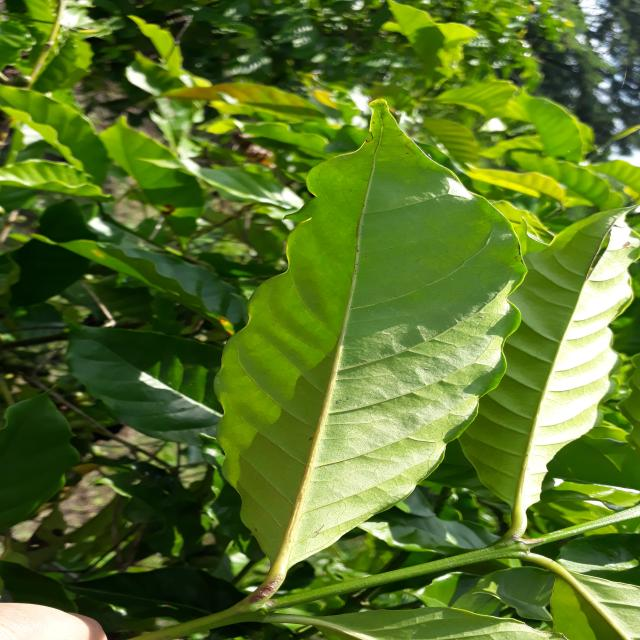Sanas: (218, 104, 525, 595)
